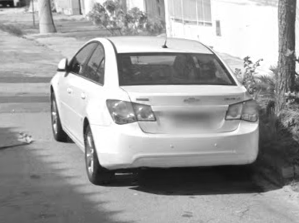car: (47, 36, 261, 185)
